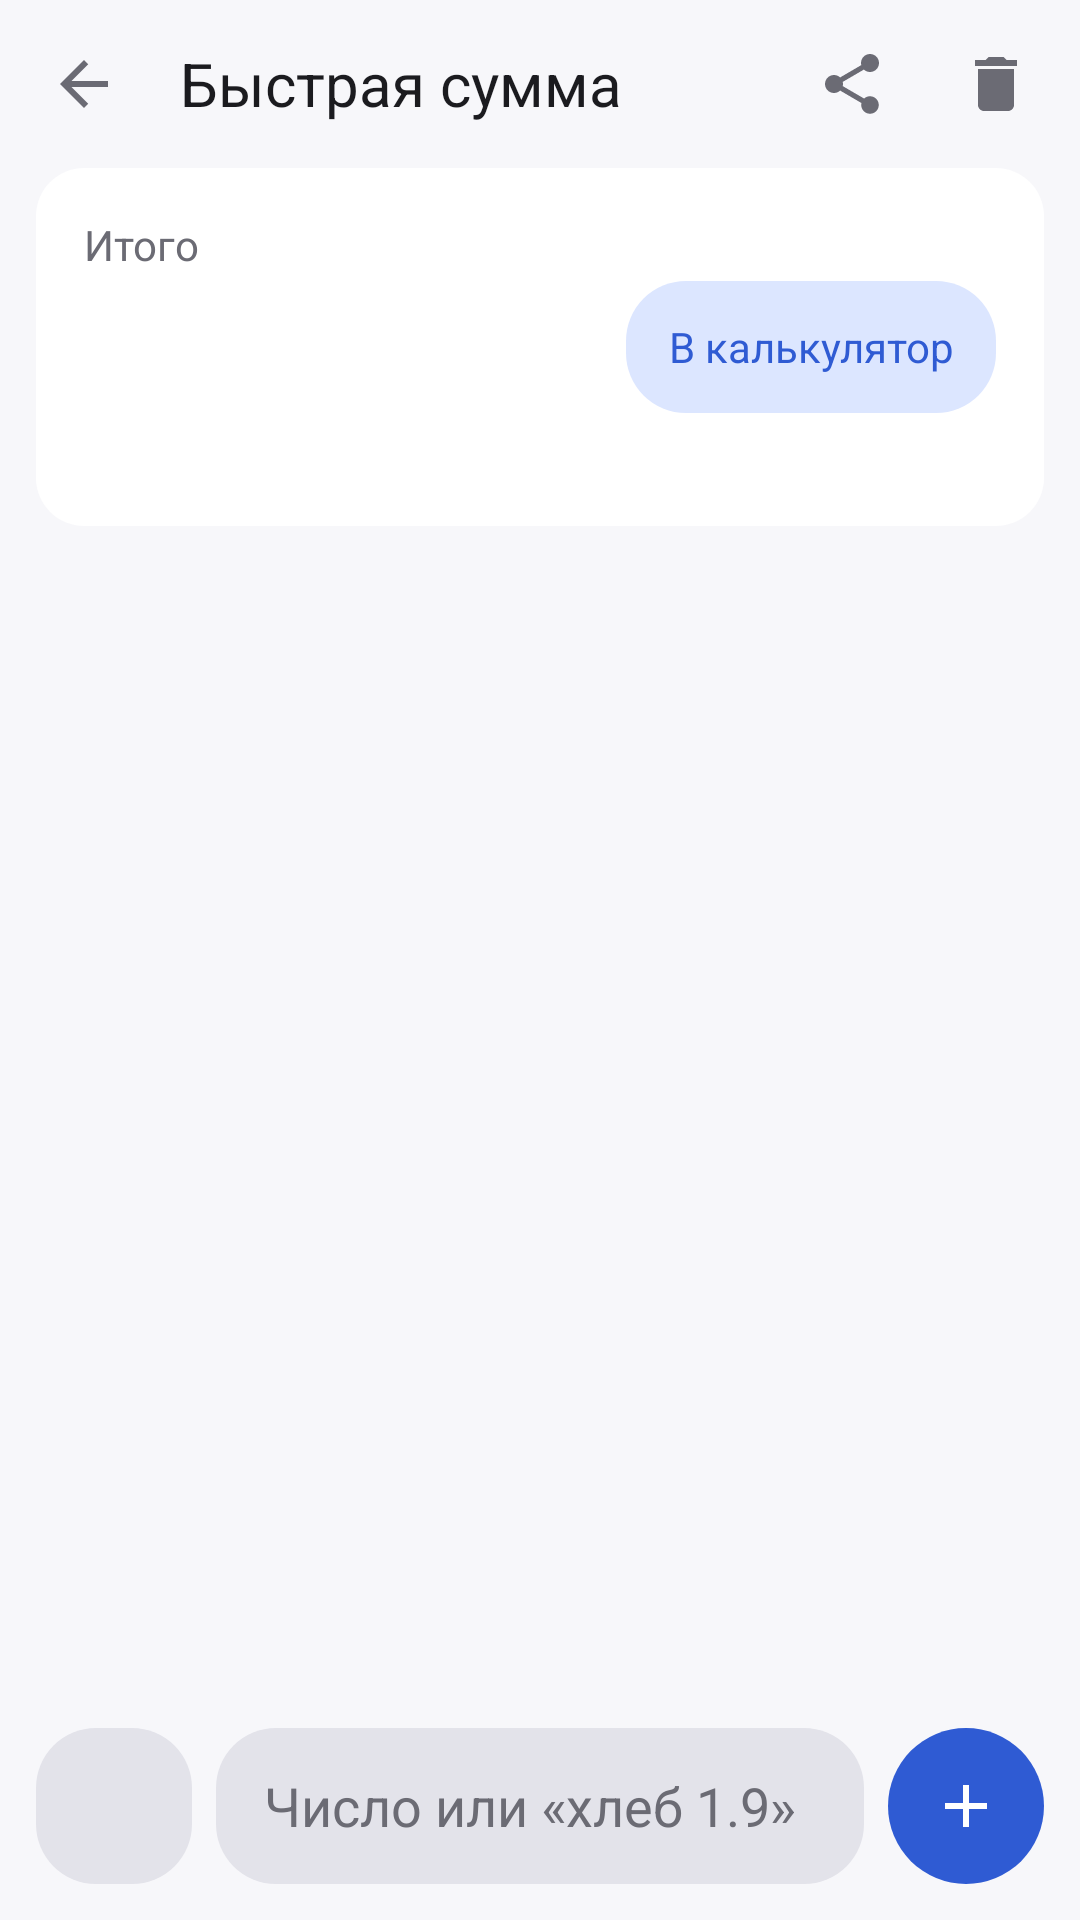

Screen size 1080px×1920px. Icon name, then its center in pixels as (x=x, y=y):
Добавить в ленту: (x=966, y=1806)
Назад: (x=84, y=84)
Очистить ленту: (x=996, y=84)
Поделиться списком: (x=852, y=84)
